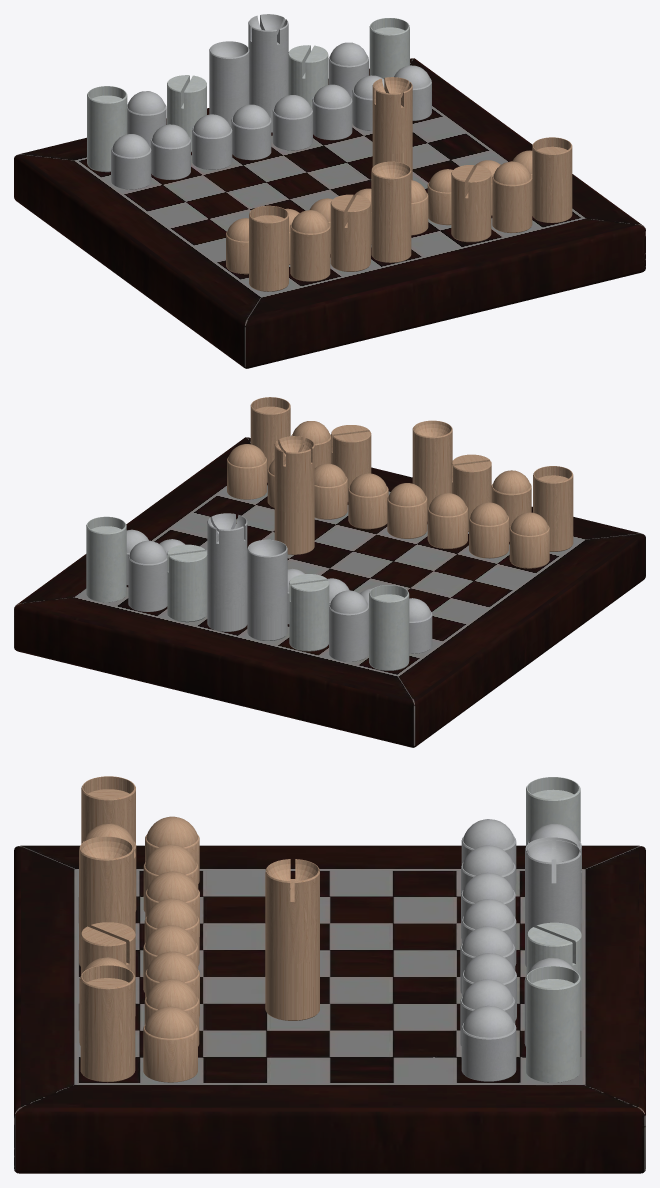
File: botw-chess-009.glb
3 renders of one model, top to bottom at view 1: azimuth 30°, elevation 25°; view 2: azimuth 150°, elevation 25°; view 3: azimuth 270°, elevation 25°, orthographic. The views are drawn at different scales.
Parts seen in each view (by area): view 1: board, Q, k, K, R2, R1, B2, B1, q, r2, N1, N2 (+16 smaller); view 2: board, k, K, q, r2, r1, b1, b2, Q, R1, n2, n1 (+13 smaller); view 3: board, K, R2, r1, Q, k, p1, P8, R1, r2, b1, B2 (+16 smaller).
Boxes of the visible parts, left/top/right/bottom form: board: left=14, top=58, right=645, bottom=368; Q: left=371, top=161, right=411, bottom=262; k: left=248, top=14, right=288, bottom=132; K: left=372, top=77, right=412, bottom=180; R2: left=532, top=137, right=572, bottom=222; R1: left=249, top=205, right=288, bottom=291; B2: left=451, top=165, right=491, bottom=242; B1: left=330, top=194, right=370, bottom=271; q: left=209, top=41, right=249, bottom=127; r2: left=87, top=86, right=127, bottom=172; N1: left=290, top=210, right=330, bottom=281; N2: left=492, top=161, right=532, bottom=232; board: left=14, top=437, right=645, bottom=747; k: left=207, top=513, right=247, bottom=631; K: left=274, top=436, right=314, bottom=554; q: left=247, top=539, right=287, bottom=640; r2: left=369, top=585, right=409, bottom=670; r1: left=86, top=516, right=126, bottom=602; b1: left=167, top=544, right=207, bottom=622; b2: left=289, top=574, right=329, bottom=651; Q: left=412, top=420, right=452, bottom=521; R1: left=533, top=466, right=573, bottom=551; n2: left=329, top=590, right=368, bottom=661; n1: left=128, top=540, right=167, bottom=611; board: left=14, top=845, right=645, bottom=1173; K: left=265, top=859, right=319, bottom=1020; R2: left=80, top=965, right=135, bottom=1082; r1: left=526, top=966, right=580, bottom=1082; Q: left=79, top=836, right=133, bottom=966; k: left=526, top=840, right=581, bottom=975; p1: left=461, top=1005, right=516, bottom=1081; P8: left=143, top=1006, right=197, bottom=1082; R1: left=81, top=776, right=135, bottom=843; r2: left=526, top=777, right=580, bottom=846; b1: left=527, top=922, right=581, bottom=1018; B2: left=81, top=922, right=135, bottom=1015.
Size of the model in its own units: 23 by 8.23 by 23.
5 materials, 5 textured.
